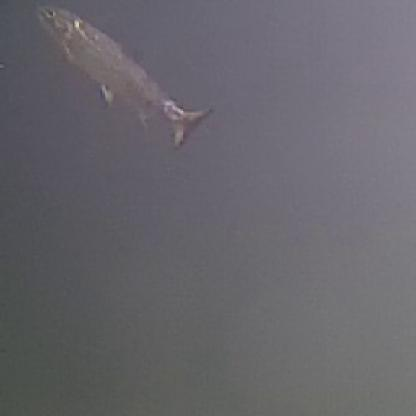salmon: (34, 3, 219, 152)
